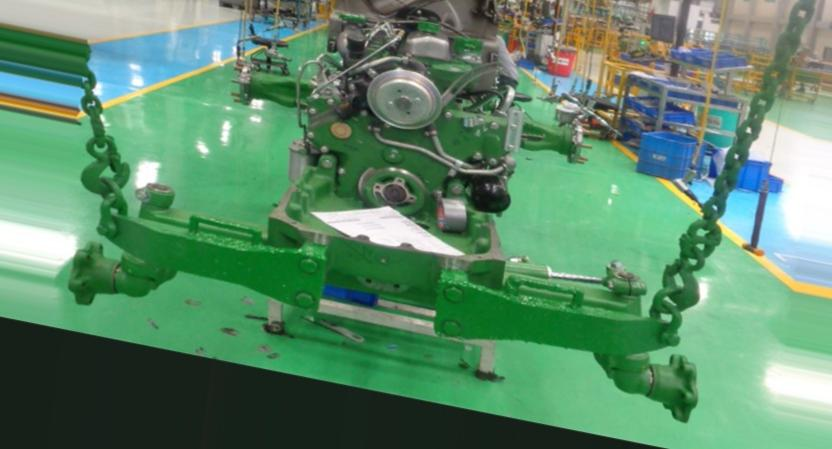engine: (68, 2, 709, 421)
